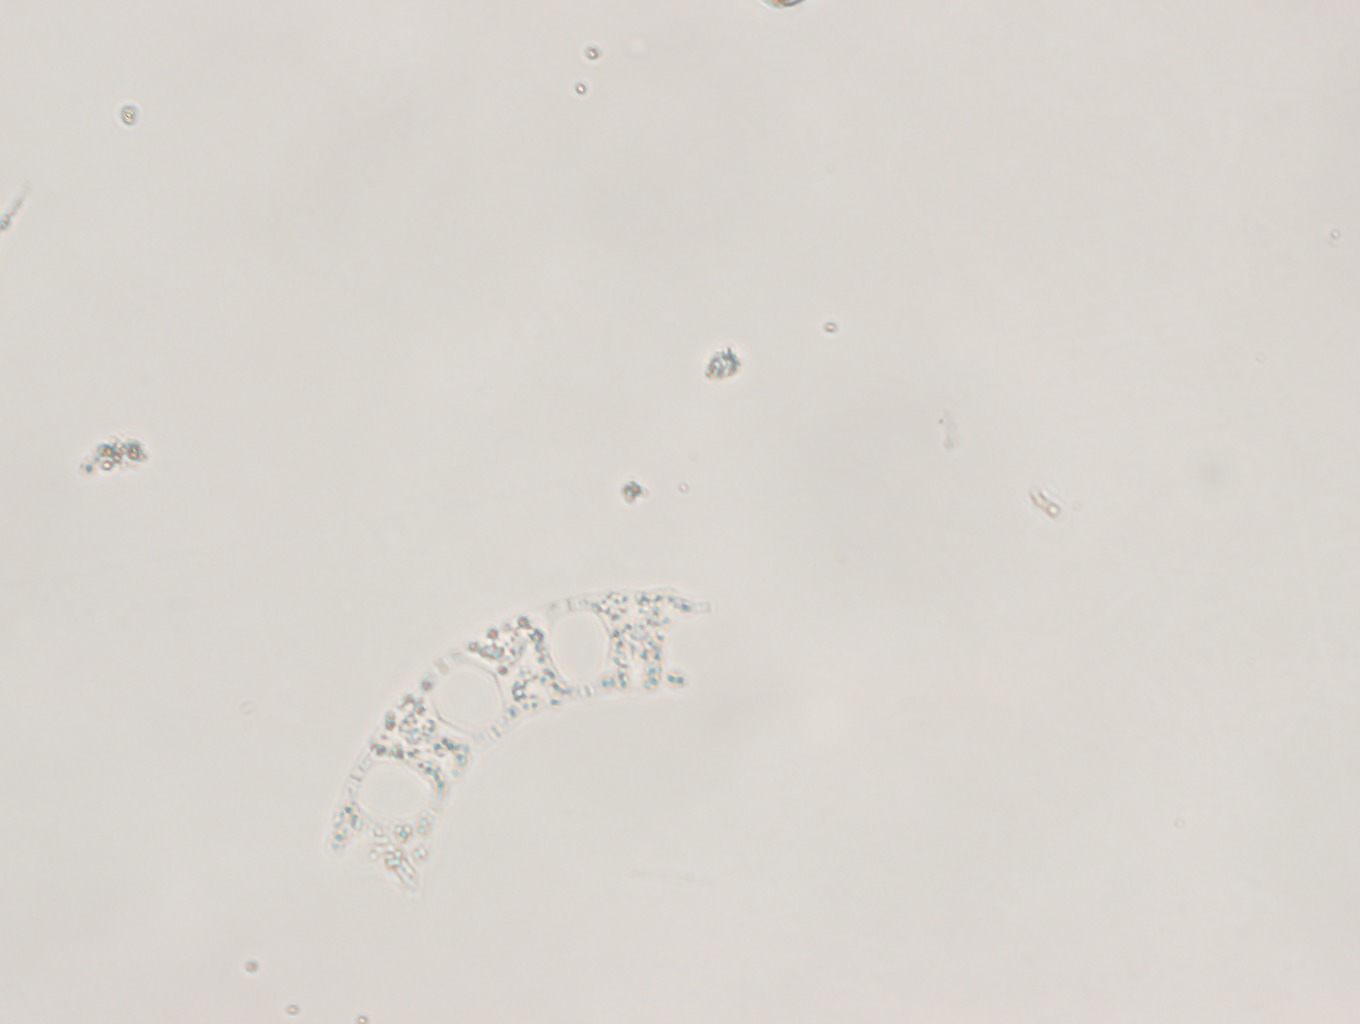eucampia: (318, 585, 729, 892)
